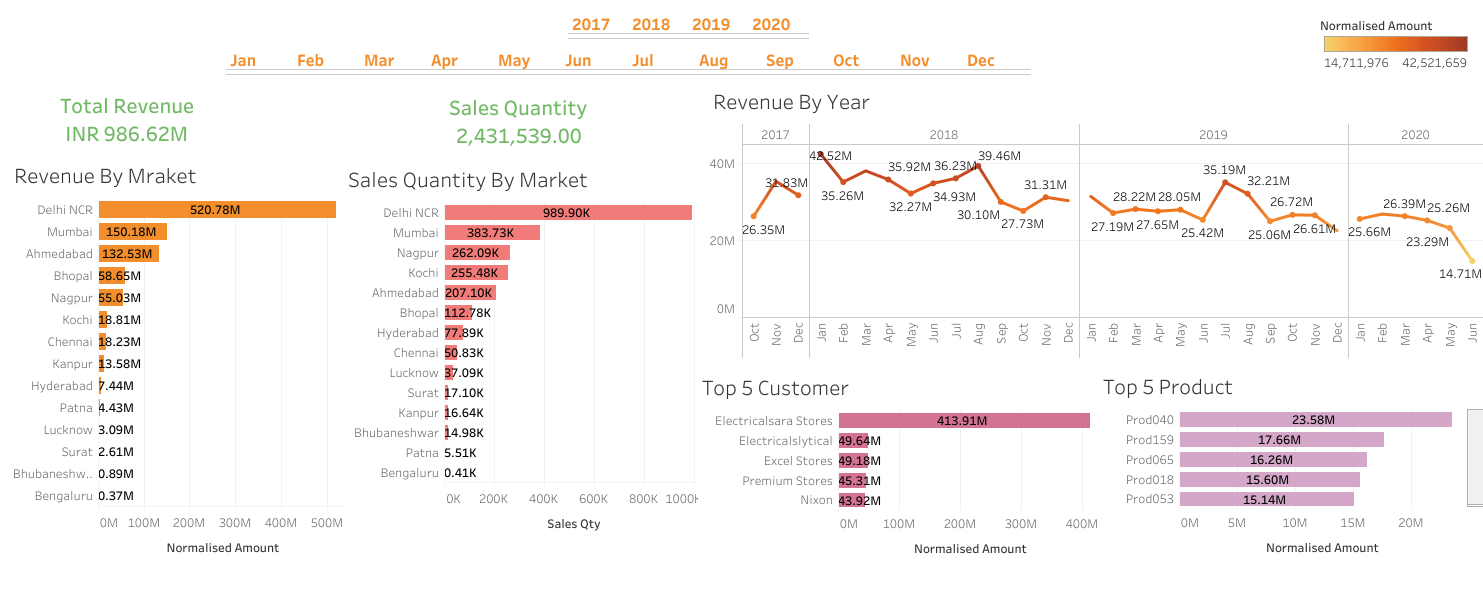

The page's visual inventory and layout, read from the dashboard file:
{"tool":"tableau","page":{"name":"Dashboard 1","canvas":[1000,1000],"units":"permille","ordinal":0},"visuals":[{"type":"legend","title":"Revenue By Year","param":"[federated.1ib079t0fecfx51cu8s1c05l0vtp].[sum:Calculation_1642406540770500608:qk","box":[886.8,13.5,107.8,114.9]},{"type":"worksheet","title":"Year","mark":"Automatic","cols":["cy_date"],"box":[382.7,22.3,333.3,332.2]},{"type":"worksheet","title":"Month","mark":"Automatic","cols":["cy_date"],"box":[152.3,82.2,703.8,61.6]},{"type":"worksheet","title":"Revenue By Year","mark":"Automatic","rows":["Calculation_1642406540770500608"],"cols":["cy_date","cy_date"],"box":[477.9,137,522.1,467.5]},{"type":"worksheet","title":"Revenue","mark":"Automatic","box":[35.5,154.1,181.8,119.9]},{"type":"worksheet","title":"Quantity","mark":"Automatic","box":[296.1,157.5,144.6,107.9]},{"type":"worksheet","title":"Revenue By Mraket","mark":"Automatic","rows":["markets_name"],"cols":["Calculation_1642406540770500608"],"box":[6.9,262,227.7,732.9]},{"type":"worksheet","title":"Sales Quantity By Market","mark":"Automatic","rows":["markets_name"],"cols":["sales_qty"],"box":[231.8,268.8,242.7,714]},{"type":"worksheet","title":"Top 5 Product","mark":"Automatic","rows":["product_code (products)"],"cols":["Calculation_1642406540770500608"],"box":[740.6,618.1,259.4,332.2]},{"type":"worksheet","title":"Top 5 Customer","mark":"Automatic","rows":["custmer_name"],"cols":["Calculation_1642406540770500608"],"box":[470.3,619.9,285.4,332.2]}]}

Visuals, with their boxes on the dashboard's canvas, which has no fixed pixel size, in thousandths of its width and height (x1, y1, x2, y2). These are canvas units, not pixel positions in the 1483x591 screenshot, which may show the page scaled, cropped or inside an application window:
"Revenue By Year" legend: box=[887, 14, 995, 128]
"Year" worksheet: box=[383, 22, 716, 354]
"Month" worksheet: box=[152, 82, 856, 144]
"Revenue By Year" worksheet: box=[478, 137, 1000, 604]
"Revenue" worksheet: box=[36, 154, 217, 274]
"Quantity" worksheet: box=[296, 158, 441, 265]
"Revenue By Mraket" worksheet: box=[7, 262, 235, 995]
"Sales Quantity By Market" worksheet: box=[232, 269, 474, 983]
"Top 5 Product" worksheet: box=[741, 618, 1000, 950]
"Top 5 Customer" worksheet: box=[470, 620, 756, 952]
